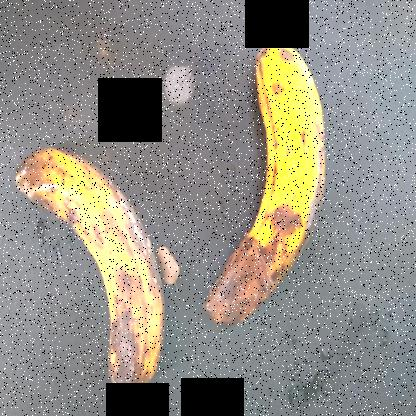rotten: (18, 128, 182, 397), (206, 20, 336, 314)
